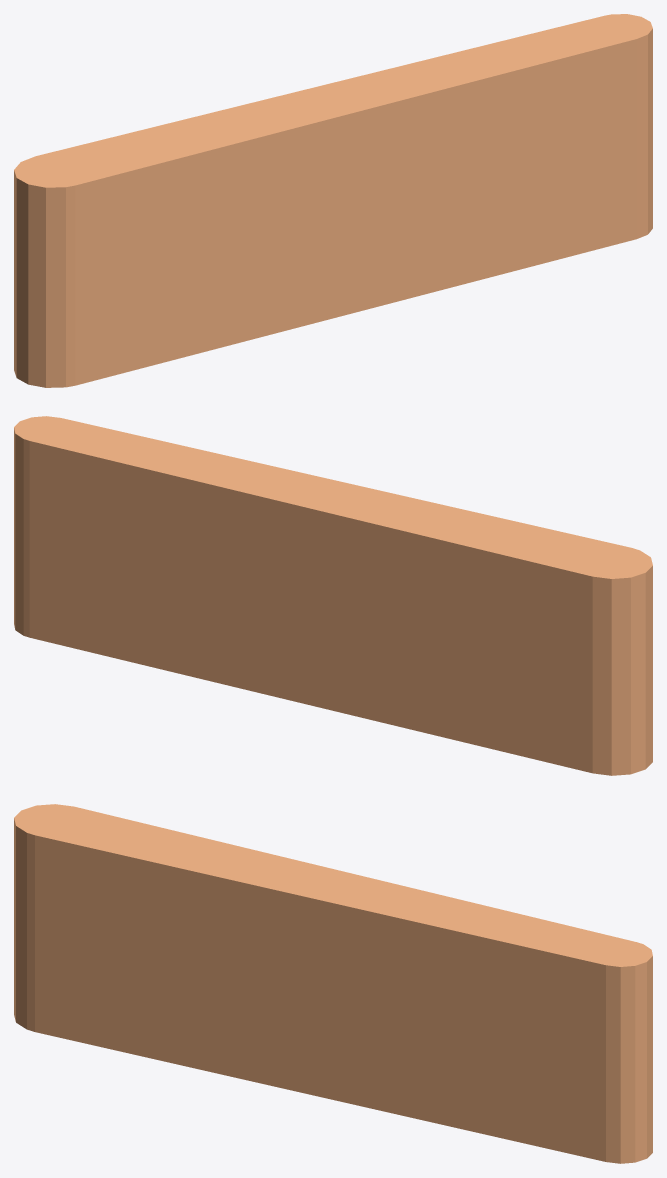
File: arm.f1e91dcd.glb
3 views of the same model, one above another, from view 1: azimuth 30°, elevation 25°; view 2: azimuth 150°, elevation 25°; view 3: azimuth 330°, elevation 25° (orthographic).
Size of the model in its own units: 1.13 by 0.34 by 0.1284.
